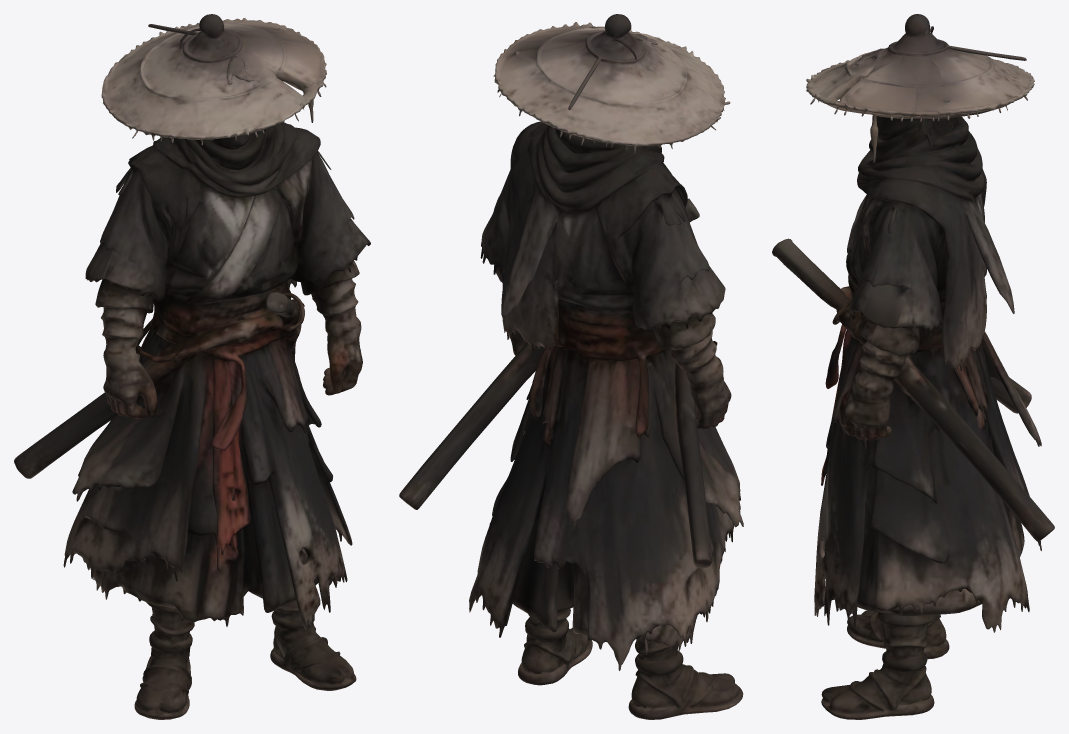
The model's file is ronin.glb.
The picture shows the model from 3 angles, left to right: view 1: azimuth 30°, elevation 25°; view 2: azimuth 150°, elevation 25°; view 3: azimuth 270°, elevation 25°; orthographic projection. The views are drawn at different scales.
Visible parts, largest first — view 1: material; view 2: material; view 3: material.
Boxes of the visible parts, box(x1,y1,x2,y2) form: material: box(14, 14, 370, 719); material: box(399, 14, 743, 719); material: box(772, 14, 1054, 719).
Bounding box in the file's own units: 0.2931 × 0.6433 × 0.2521.
Materials: 1 (1 with a texture image).
